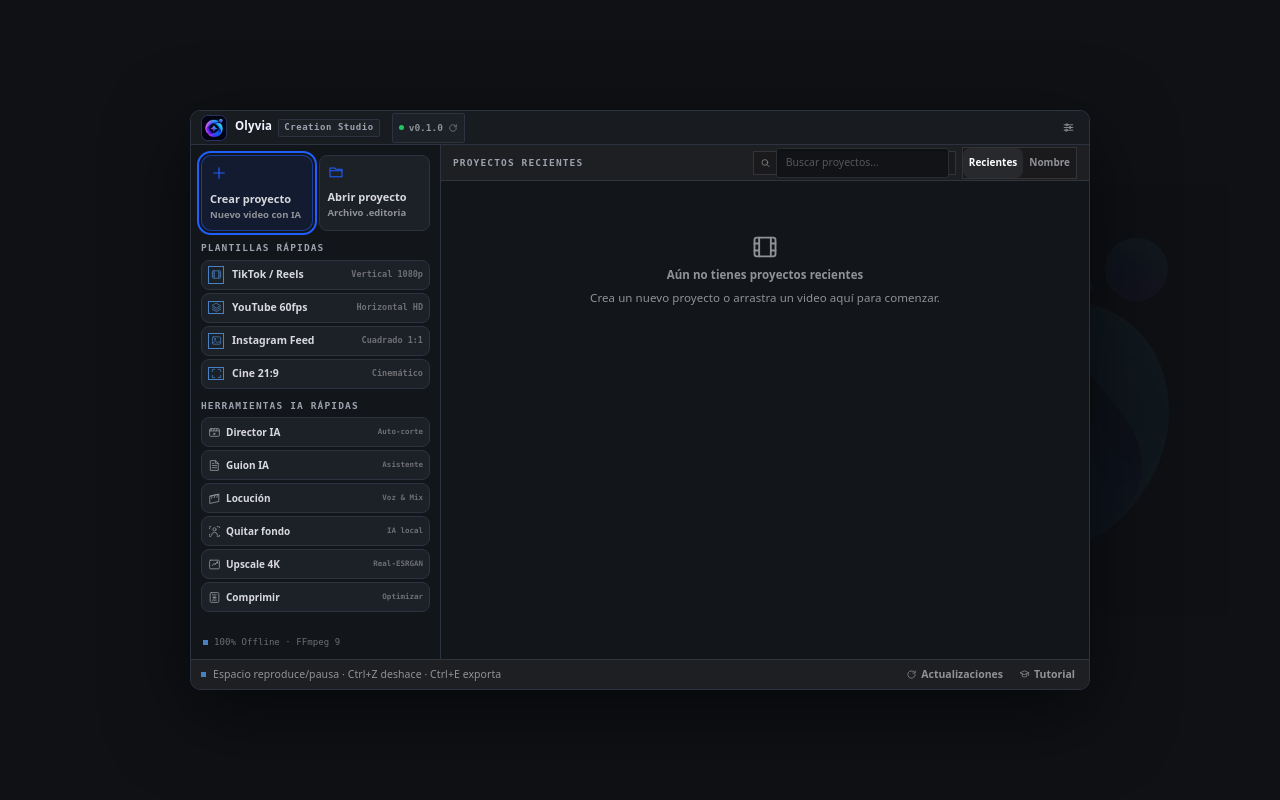
Test: StartScreen · trampa de foco en el diálogo de nuevo proyecto › cierra con Escape y devuelve el foco a la tarjeta que lo abrió
Step 1. Click the button "Crear proyecto Nuevo video con IA" → (257, 193), box left=201, top=155, right=312, bottom=231
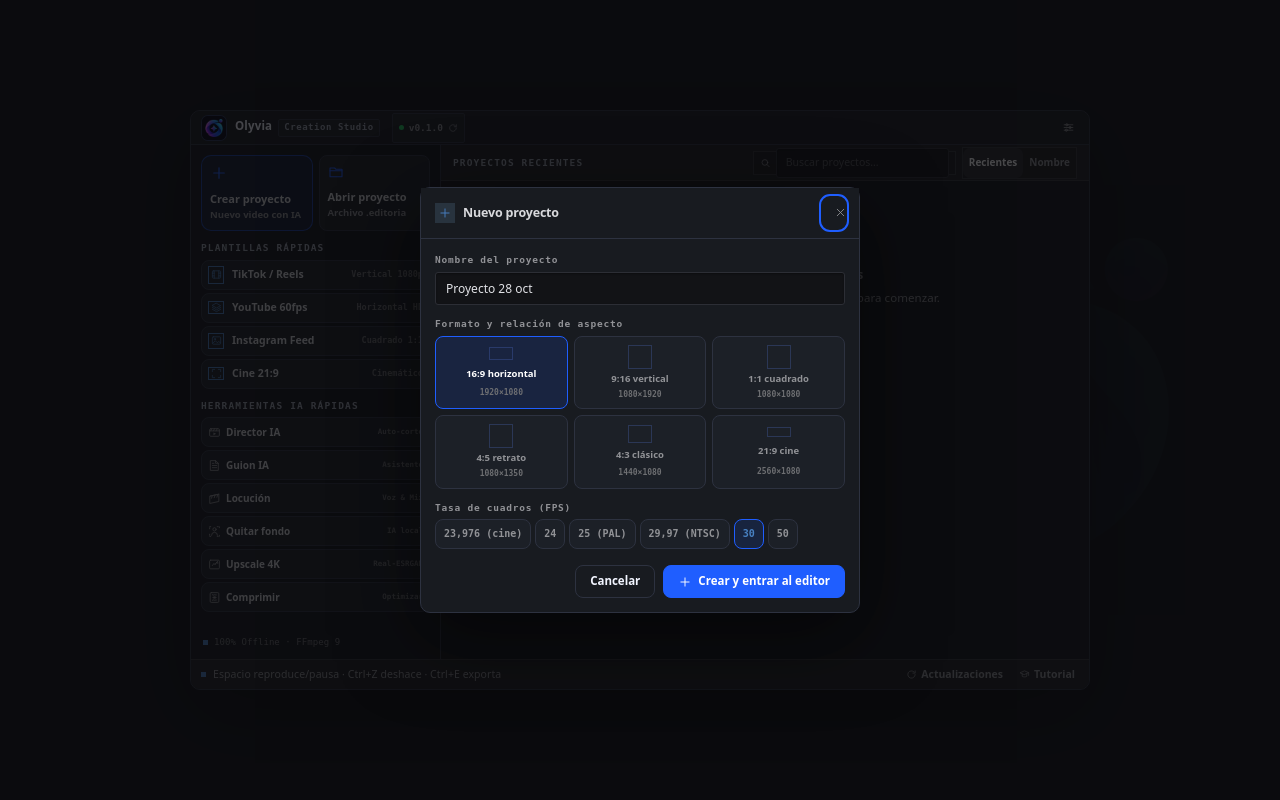
Expected: the dialog "Nuevo proyecto" is shown
Step 2. Press Escape
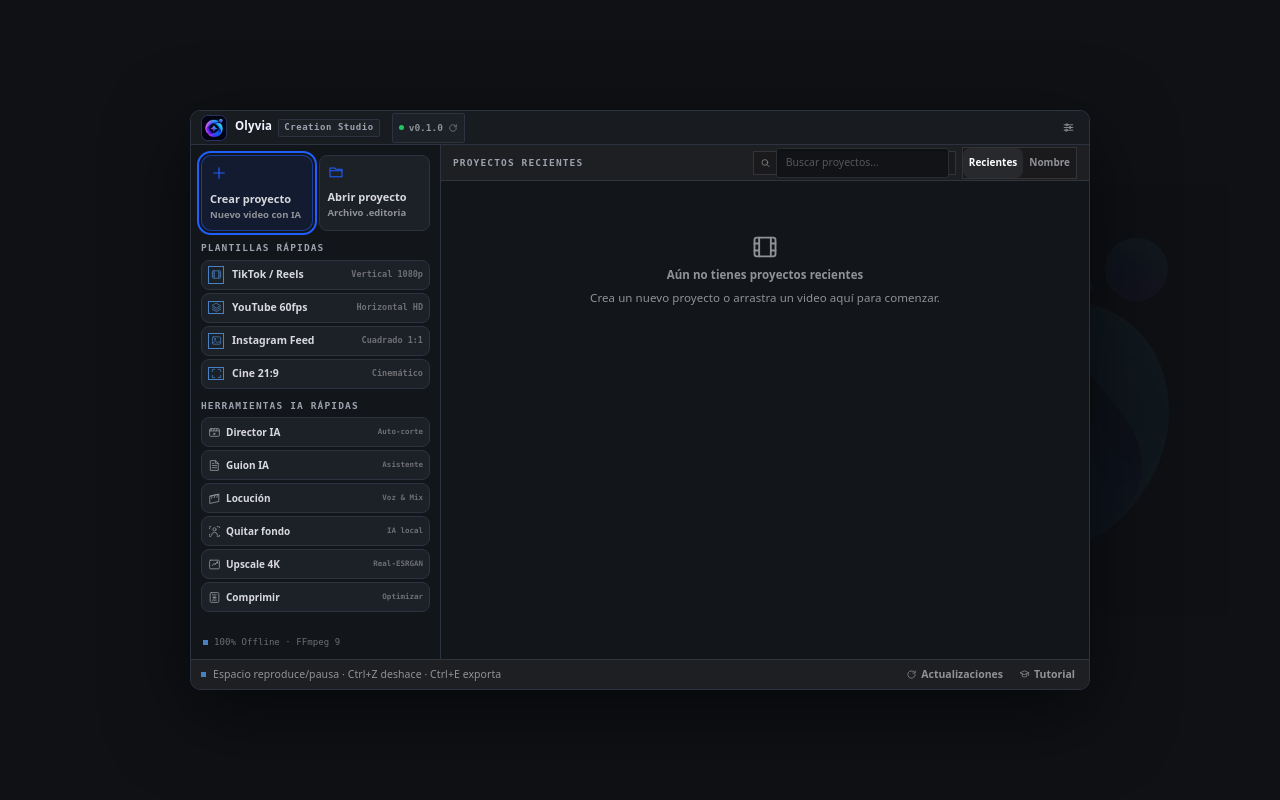
Expected: the dialog is gone
